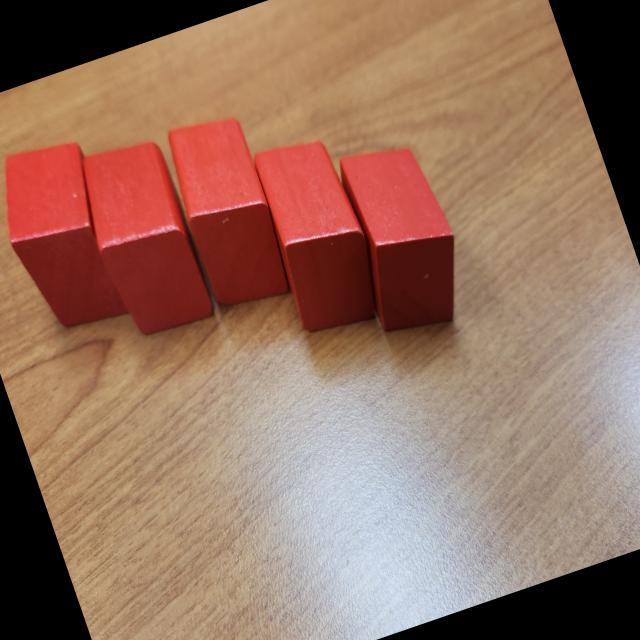red: (324, 132, 480, 344), (66, 131, 220, 345), (243, 128, 392, 342), (153, 106, 300, 316), (0, 130, 137, 342)
